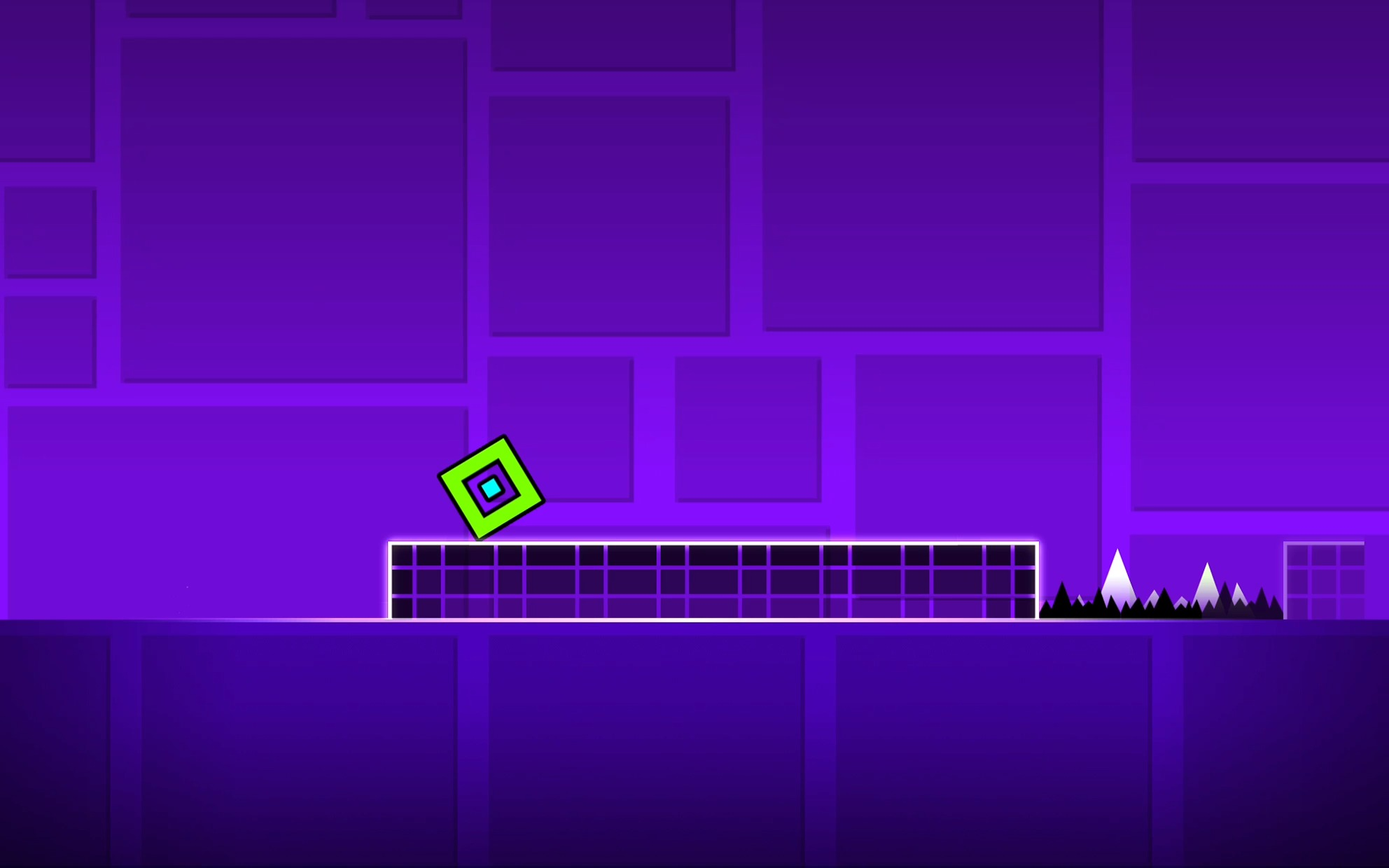Block2: (388, 540, 1035, 615), (1283, 541, 1369, 617)
Player: (437, 436, 545, 540)
Spike3: (1043, 584, 1285, 622)
